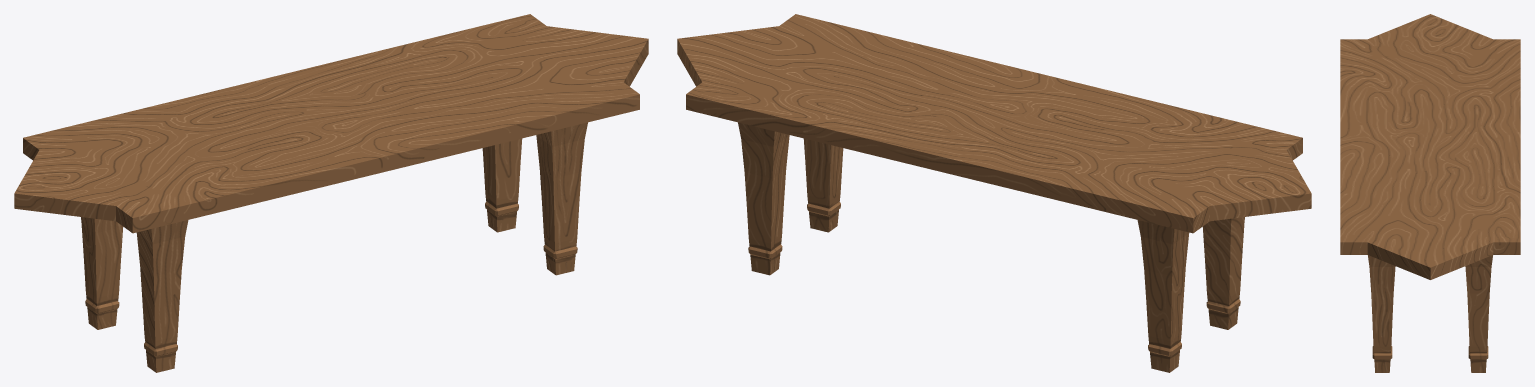
The model's file is LowPolyTable_BigNewfixed.fbx.
3 renders of one model, left to right at view 1: azimuth 30°, elevation 25°; view 2: azimuth 150°, elevation 25°; view 3: azimuth 270°, elevation 25°, orthographic. The views are drawn at different scales.
Parts seen in each view (by area): view 1: Cube; view 2: Cube; view 3: Cube.
Part boxes in pixels (bbox=[...]): Cube: bbox=[14, 14, 648, 372]; Cube: bbox=[677, 14, 1311, 372]; Cube: bbox=[1340, 14, 1520, 372].
Size of the model in its own units: 2000 by 546 by 600.
